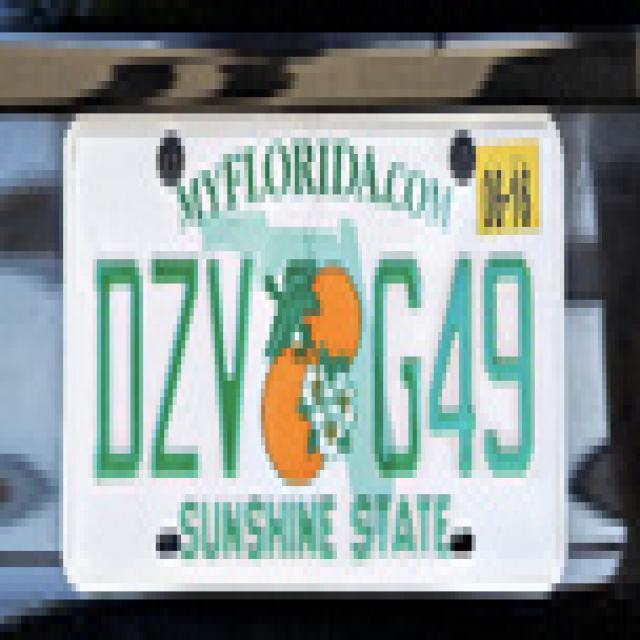4: (426, 232, 480, 489)
9: (478, 225, 540, 498)
D: (84, 229, 148, 497)
G: (364, 230, 424, 482)
V: (201, 226, 254, 494)
Z: (146, 231, 204, 496)
